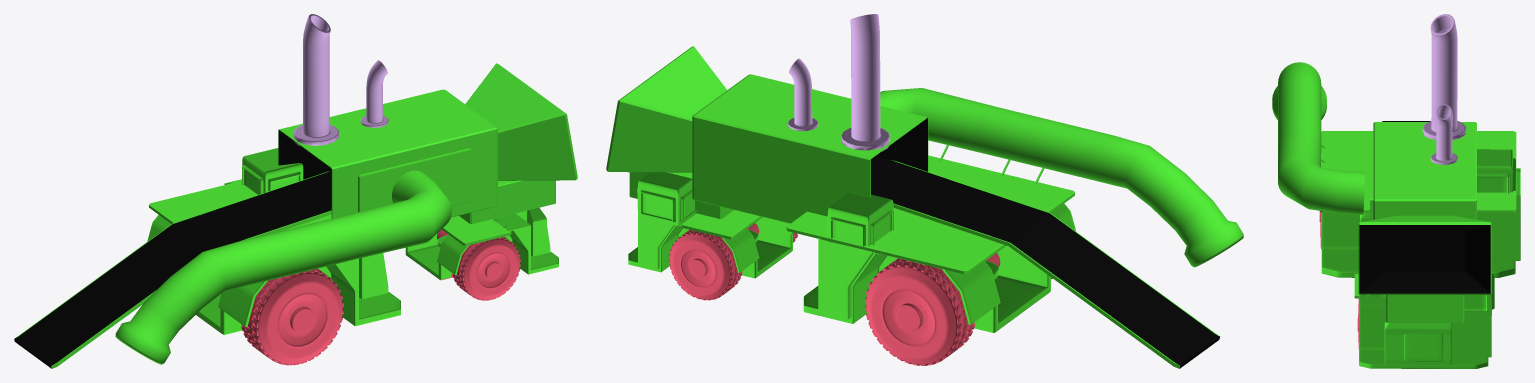
The model's file is RMachine.fbx.
3 views of the same model, side by side, from view 1: azimuth 30°, elevation 25°; view 2: azimuth 150°, elevation 25°; view 3: azimuth 270°, elevation 25° (orthographic). The views are drawn at different scales.
Parts seen in each view (by area): view 1: RMachine; view 2: RMachine; view 3: RMachine.
Part boxes in pixels (bbox=[...]): RMachine: bbox=[14, 14, 577, 368]; RMachine: bbox=[606, 14, 1243, 368]; RMachine: bbox=[1272, 14, 1520, 368].
Bounding box in the file's own units: 3575 × 1891 × 1556.
